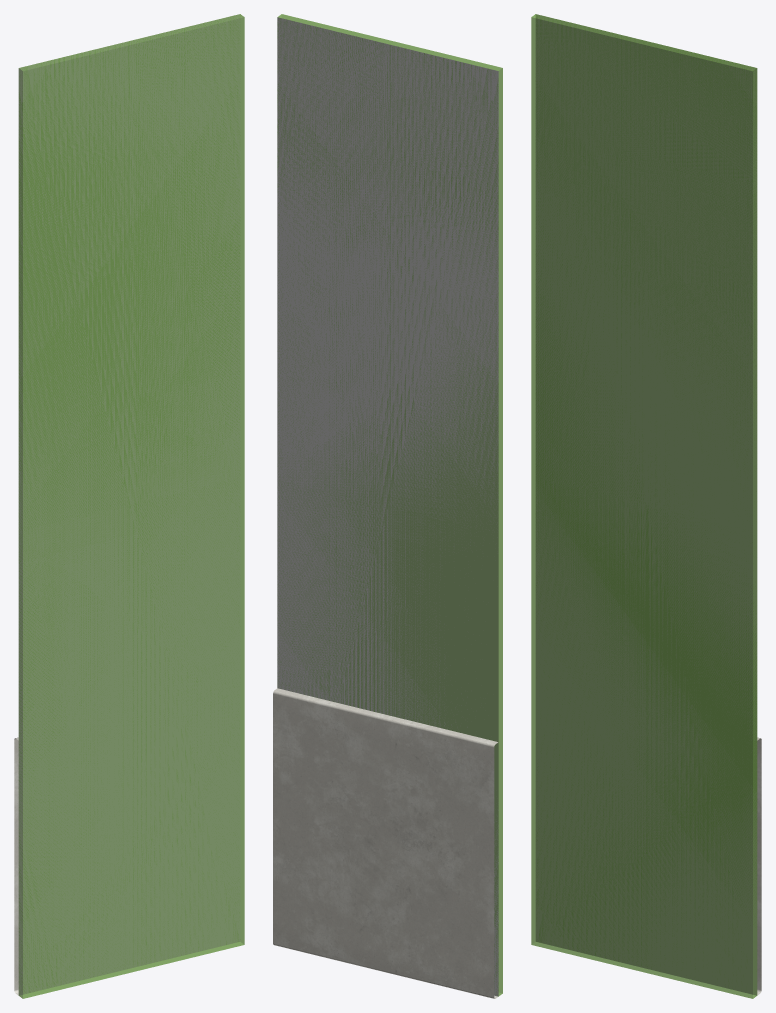
The model's file is F9_md_Wall_4x1_01.fbx.
The picture shows the model from 3 angles, left to right: view 1: azimuth 30°, elevation 25°; view 2: azimuth 150°, elevation 25°; view 3: azimuth 330°, elevation 25°; orthographic projection.
Visible parts, largest first — view 1: F9_md_Wall_4x1_01_col_1, F9_md_Wall_4x1_01_LOD0; view 2: F9_md_Wall_4x1_01_LOD0, F9_md_Wall_4x1_01_col_1; view 3: F9_md_Wall_4x1_01_col_1, F9_md_Wall_4x1_01_LOD0.
Part boxes in pixels (<box>): F9_md_Wall_4x1_01_col_1: <box>18,14,244,998</box>; F9_md_Wall_4x1_01_LOD0: <box>14,14,240,995</box>; F9_md_Wall_4x1_01_LOD0: <box>273,17,498,998</box>; F9_md_Wall_4x1_01_col_1: <box>277,14,502,996</box>; F9_md_Wall_4x1_01_col_1: <box>531,14,757,998</box>; F9_md_Wall_4x1_01_LOD0: <box>535,14,761,995</box>.
Size of what is drawn, in the model's own units: 100 by 400 by 6.83.
